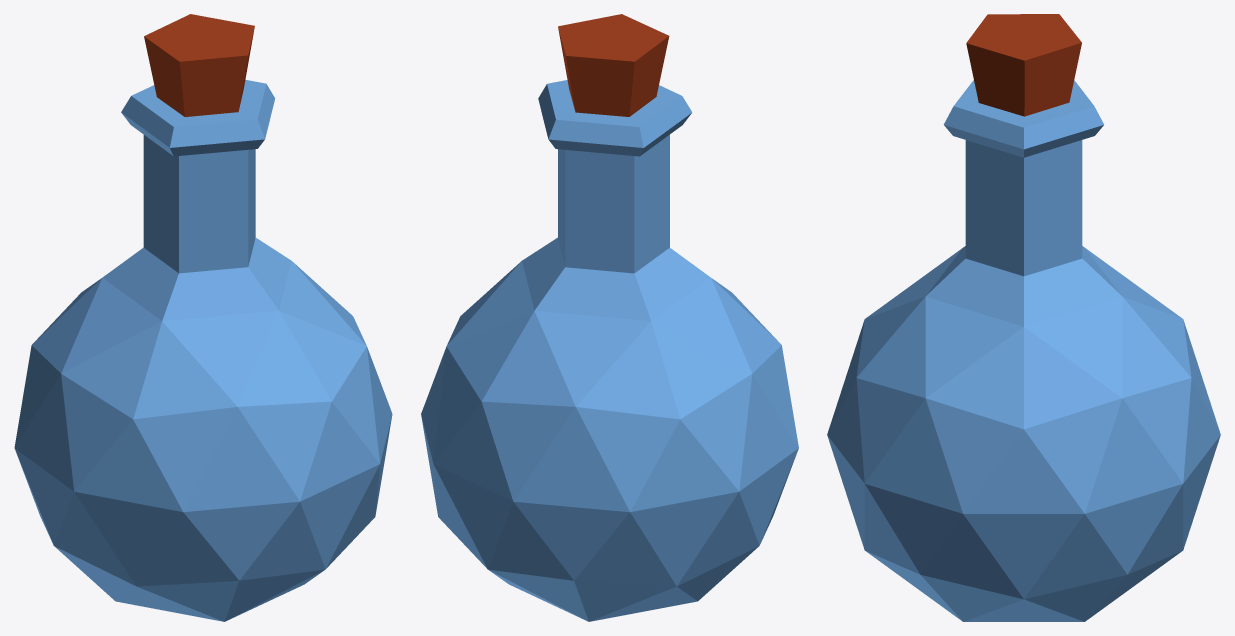
The model's file is smoke.glb.
3 views of the same model, side by side, from view 1: azimuth 30°, elevation 25°; view 2: azimuth 150°, elevation 25°; view 3: azimuth 270°, elevation 25° (orthographic).
Parts seen in each view (by area): view 1: Icosphere; view 2: Icosphere; view 3: Icosphere.
Part boxes in pixels (box(x1,y1,x2,y2)): Icosphere: box(14, 14, 392, 621); Icosphere: box(421, 14, 798, 621); Icosphere: box(827, 14, 1220, 621).
Size of the model in its own units: 1.9 by 3.24 by 2.
